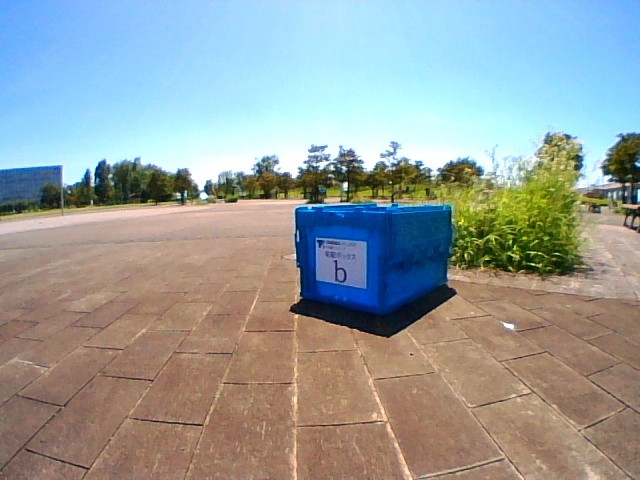blue_box: (294, 205, 445, 291)
tag_b: (319, 242, 363, 283)
